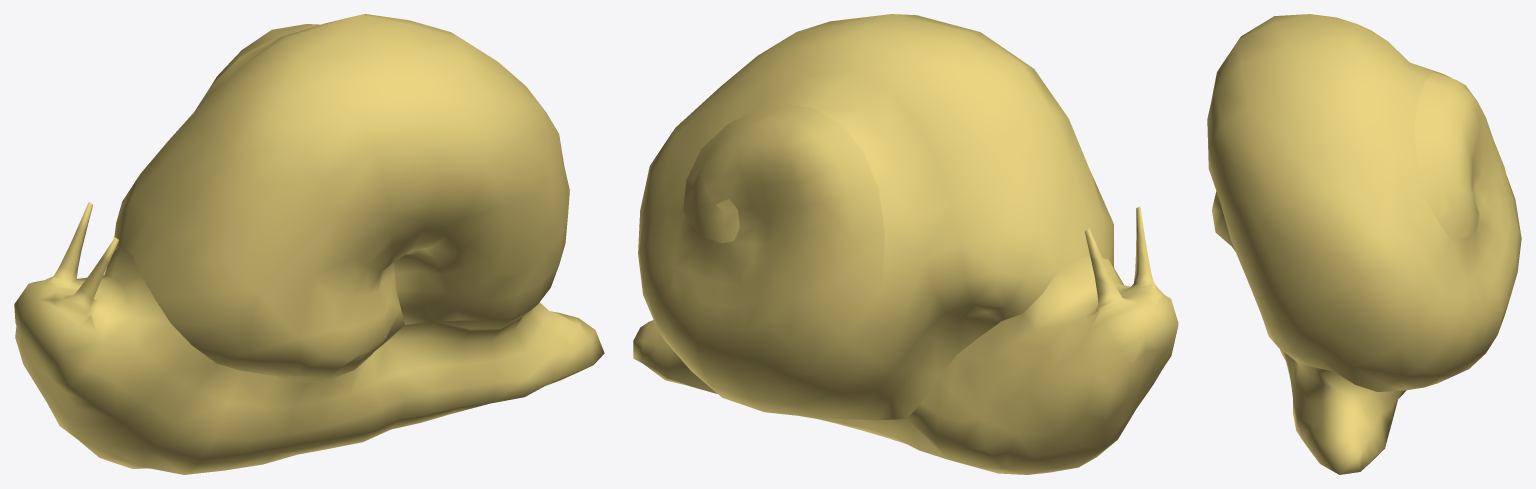
Rendered from f_snail.fbx.
3 views of the same model, side by side, from view 1: azimuth 30°, elevation 25°; view 2: azimuth 150°, elevation 25°; view 3: azimuth 270°, elevation 25° (orthographic). The views are drawn at different scales.
Visible parts, largest first — view 1: SNAIL_5_SNAIL_4_shell1; view 2: SNAIL_5_SNAIL_4_shell1; view 3: SNAIL_5_SNAIL_4_shell1.
Part boxes in pixels (<box>): SNAIL_5_SNAIL_4_shell1: <box>14,14,604,474</box>; SNAIL_5_SNAIL_4_shell1: <box>633,14,1178,474</box>; SNAIL_5_SNAIL_4_shell1: <box>1207,14,1521,474</box>.
Size of the model in its own units: 217 by 147 by 122.
